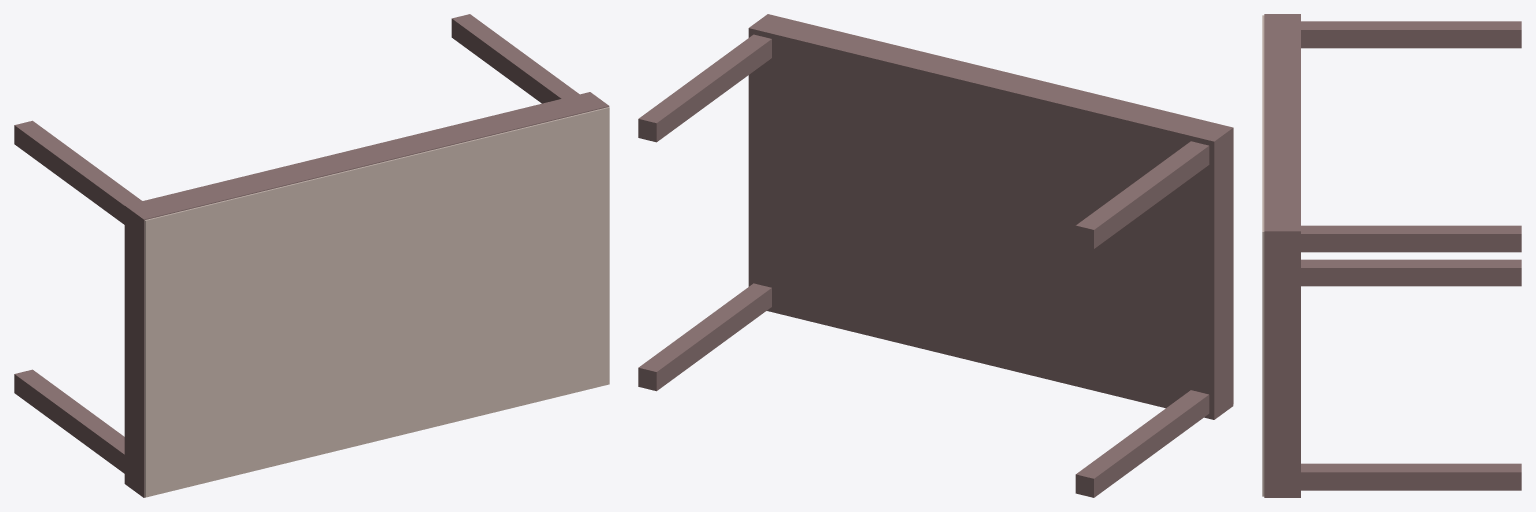
Rendered from table_cop.dae.
3 views of the same model, side by side, from view 1: azimuth 30°, elevation 25°; view 2: azimuth 150°, elevation 25°; view 3: azimuth 270°, elevation 25° (orthographic). The views are drawn at different scales.
Visible parts, largest first — view 1: node (×5); view 2: node (×5); view 3: node (×6).
Part boxes in pixels (box(x1,y1,x2,y2)): node (×5): box(14, 14, 609, 497); node (×5): box(638, 14, 1233, 497); node (×6): box(1262, 14, 1521, 497).
Bounding box in the file's own units: 1.4 × 0.8 × 0.705.
